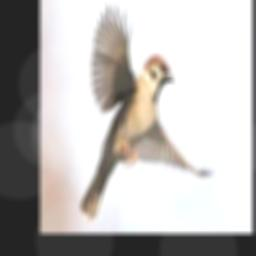Sparrow: (80, 0, 215, 221)
